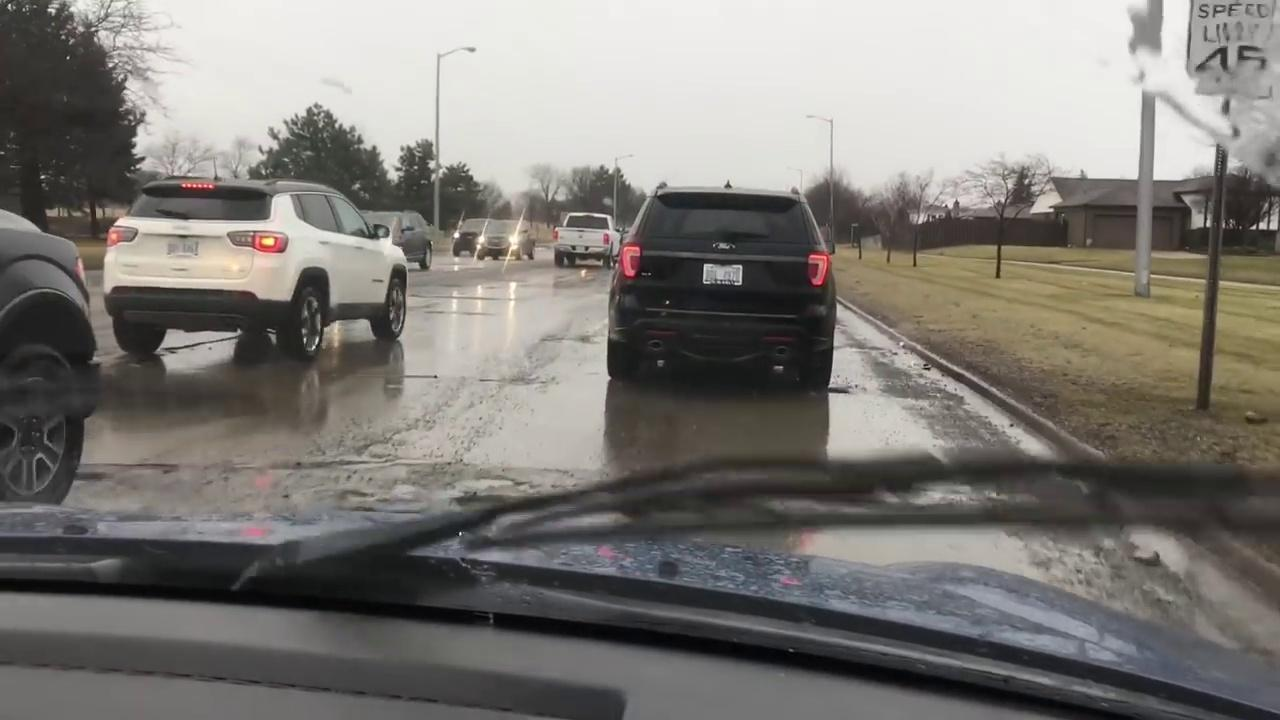pothole: (446, 473, 520, 489), (823, 384, 854, 394)
